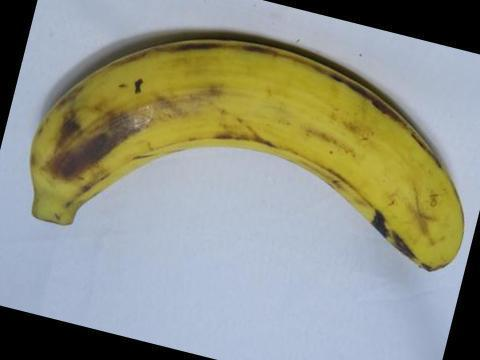overripe: (22, 39, 476, 268)
